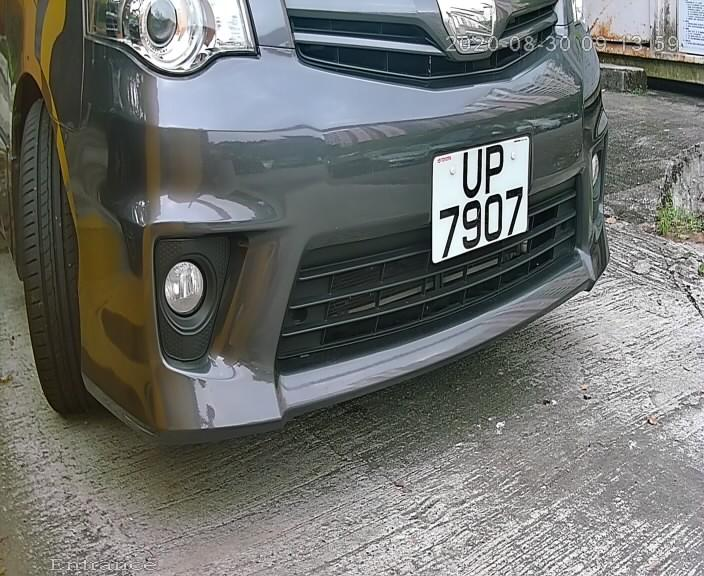License Plate: (425, 127, 541, 271)
